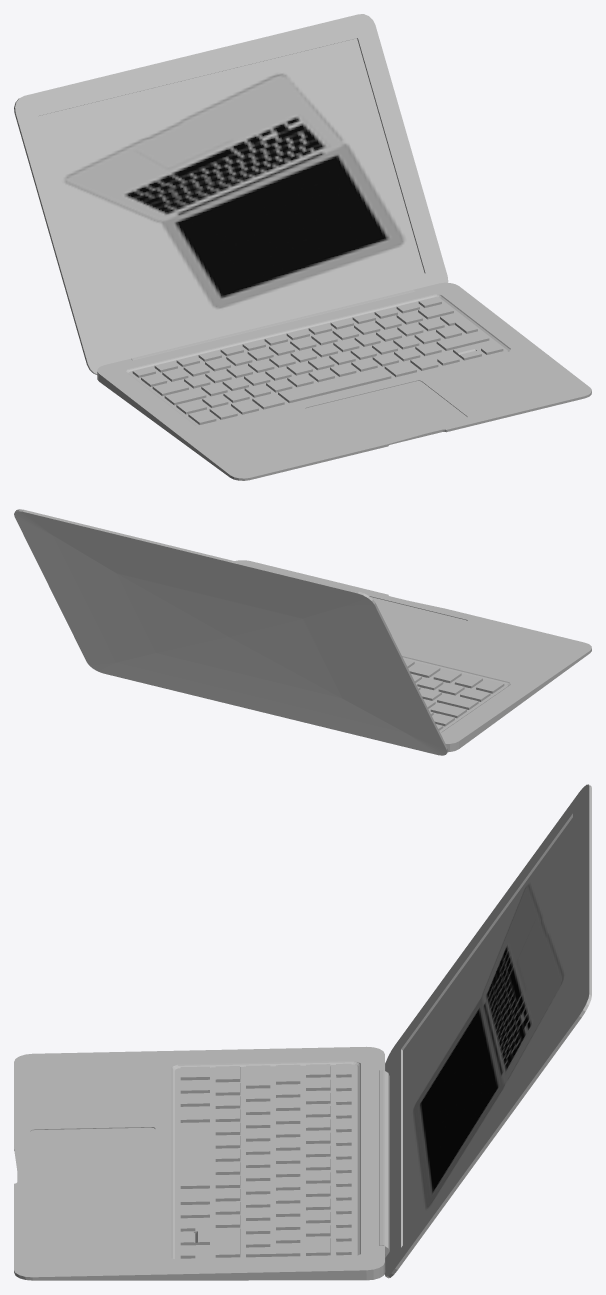
Rendered from eteks-laptop.glb.
3 renders of one model, top to bottom at view 1: azimuth 30°, elevation 25°; view 2: azimuth 150°, elevation 25°; view 3: azimuth 270°, elevation 25°, orthographic. The views are drawn at different scales.
Visible parts, largest first — view 1: sweethome3d_opening_on_hinge_1_screen, BottomBorder, sweethome3d_opening_on_hinge_1_topBorder, Keyboard, sweethome3d_opening_on_hinge_1_rotatingHinge; view 2: sweethome3d_opening_on_hinge_1_topFace, BottomBorder, Keyboard, sweethome3d_opening_on_hinge_1_topBorder; view 3: BottomBorder, sweethome3d_opening_on_hinge_1_screen, Keyboard, sweethome3d_opening_on_hinge_1_topBorder, sweethome3d_opening_on_hinge_1_rotatingHinge.
Boxes of the visible parts, box(x1,y1,x2,y2) form: sweethome3d_opening_on_hinge_1_screen: box(38, 40, 422, 349); BottomBorder: box(97, 282, 591, 480); sweethome3d_opening_on_hinge_1_topBorder: box(14, 14, 448, 374); Keyboard: box(132, 297, 503, 424); sweethome3d_opening_on_hinge_1_rotatingHinge: box(131, 290, 414, 360); sweethome3d_opening_on_hinge_1_topFace: box(14, 511, 447, 755); BottomBorder: box(235, 560, 591, 752); Keyboard: box(403, 659, 504, 730); sweethome3d_opening_on_hinge_1_topBorder: box(14, 509, 448, 752); BottomBorder: box(14, 1046, 385, 1280); sweethome3d_opening_on_hinge_1_screen: box(404, 818, 572, 1243); Keyboard: box(180, 1063, 351, 1258); sweethome3d_opening_on_hinge_1_topBorder: box(384, 784, 591, 1278); sweethome3d_opening_on_hinge_1_rotatingHinge: box(379, 1070, 389, 1257).
Bounding box in the file's own units: 32.49 × 19.21 × 35.5.
Materials: 1 (1 with a texture image).
